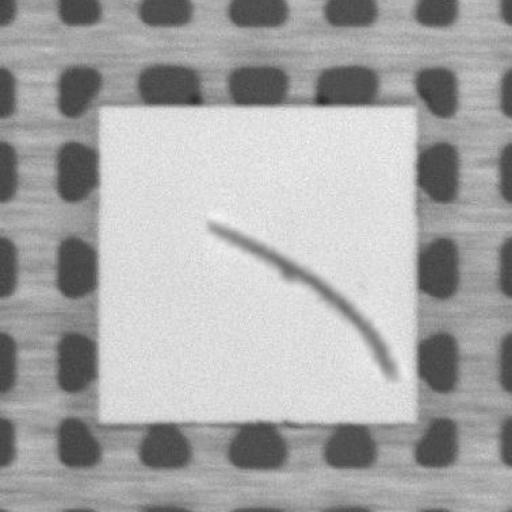DIE_INK: (204, 222, 418, 385)
